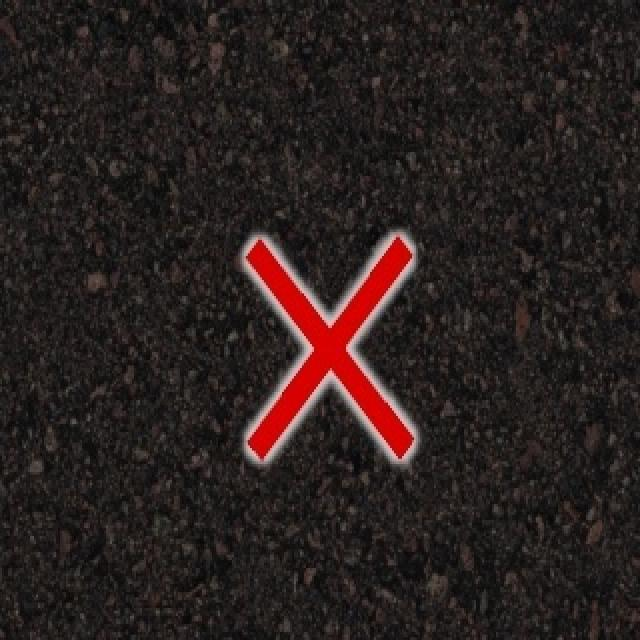x_marker: (245, 236, 413, 457)
